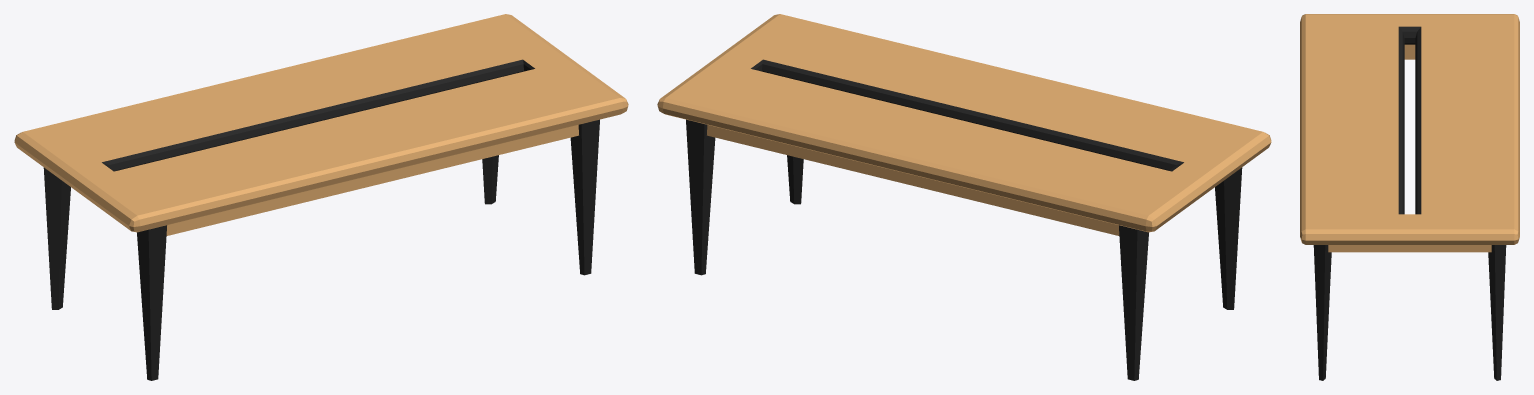
Rendered from table.glb.
The picture shows the model from 3 angles, left to right: view 1: azimuth 30°, elevation 25°; view 2: azimuth 150°, elevation 25°; view 3: azimuth 270°, elevation 25°; orthographic projection. The views are drawn at different scales.
Parts seen in each view (by area): view 1: Lukas_Heinrichs_Lesson1_Exercise1_Tisch.001_Lukas_Heinrichs_ (×2); view 2: Lukas_Heinrichs_Lesson1_Exercise1_Tisch.001_Lukas_Heinrichs_ (×2); view 3: Lukas_Heinrichs_Lesson1_Exercise1_Tisch.001_Lukas_Heinrichs_ (×2).
Part boxes in pixels (bbox=[...]): Lukas_Heinrichs_Lesson1_Exercise1_Tisch.001_Lukas_Heinrichs_ (×2): bbox=[14, 14, 628, 380]; Lukas_Heinrichs_Lesson1_Exercise1_Tisch.001_Lukas_Heinrichs_ (×2): bbox=[657, 14, 1271, 380]; Lukas_Heinrichs_Lesson1_Exercise1_Tisch.001_Lukas_Heinrichs_ (×2): bbox=[1300, 14, 1519, 380].
Bounding box in the file's own units: 1.9 × 0.6393 × 0.794.
